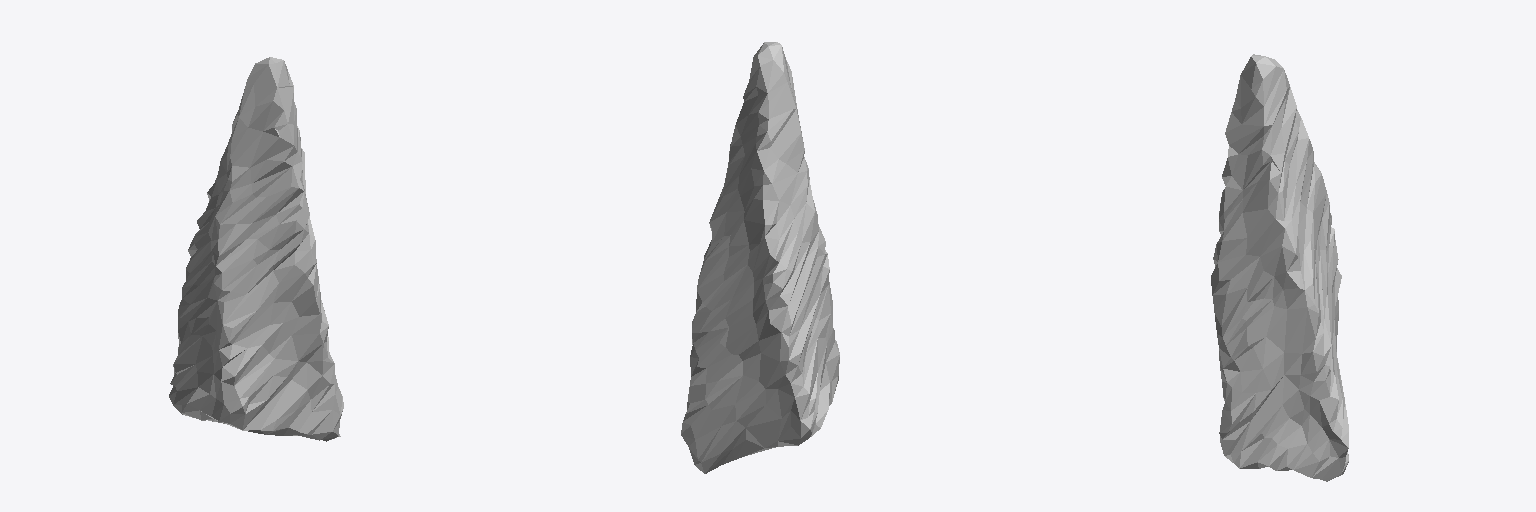
The model's file is CL_drums_dir3_LOD2.obj.
3 views of the same model, side by side, from view 1: azimuth 30°, elevation 25°; view 2: azimuth 150°, elevation 25°; view 3: azimuth 270°, elevation 25° (orthographic).
Bounding box in the file's own units: 0.3468 × 1.04 × 0.3219.